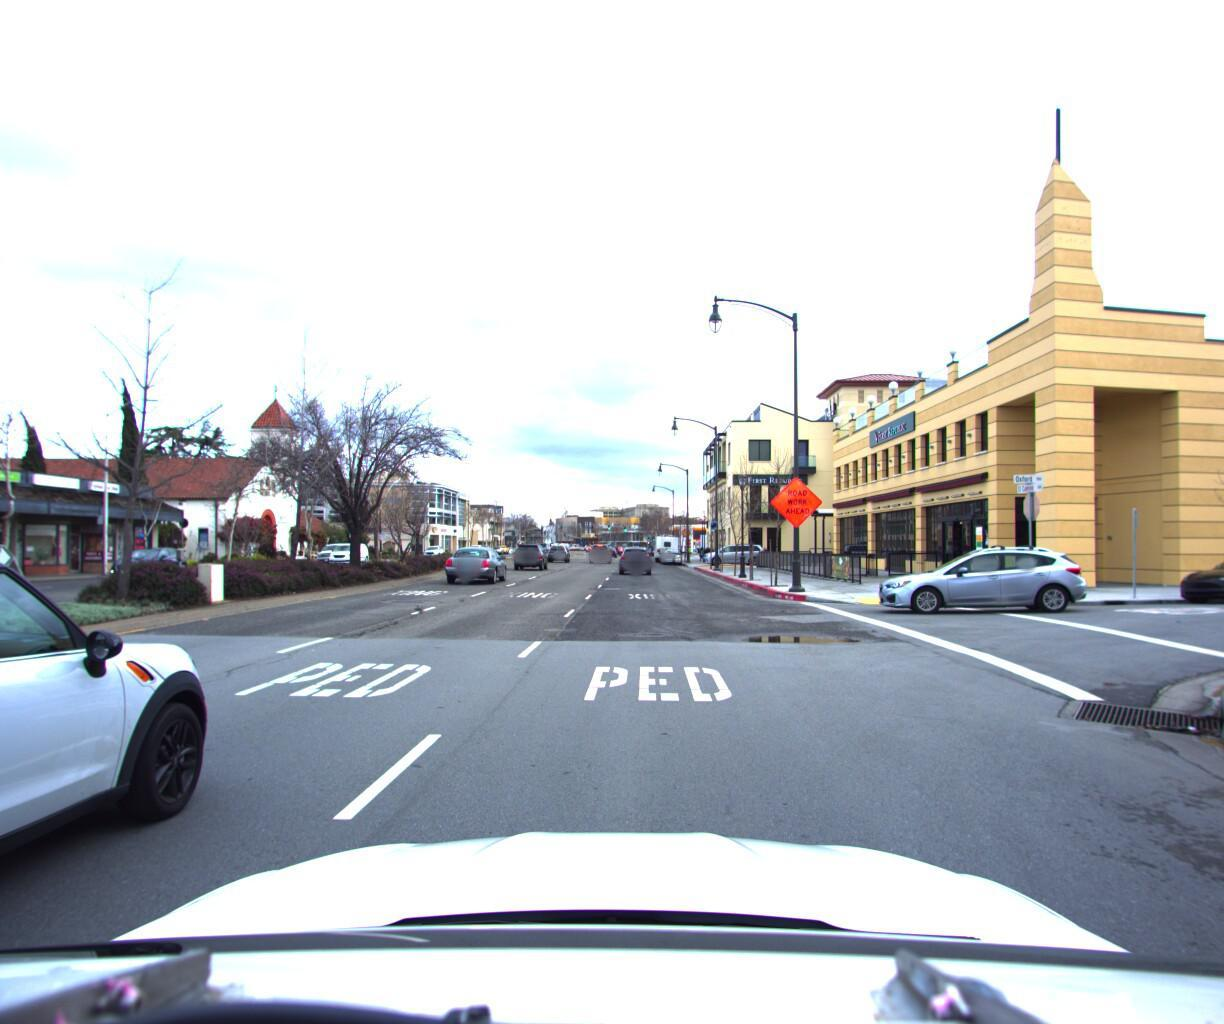car: (0, 529, 247, 1024), (868, 538, 1089, 616), (1154, 543, 1224, 606), (105, 540, 192, 574), (442, 543, 509, 584), (698, 536, 763, 559), (311, 537, 359, 562), (614, 543, 649, 575), (511, 538, 548, 567), (326, 536, 368, 560), (651, 526, 676, 556), (658, 540, 681, 559), (545, 536, 567, 555), (586, 540, 607, 559)
